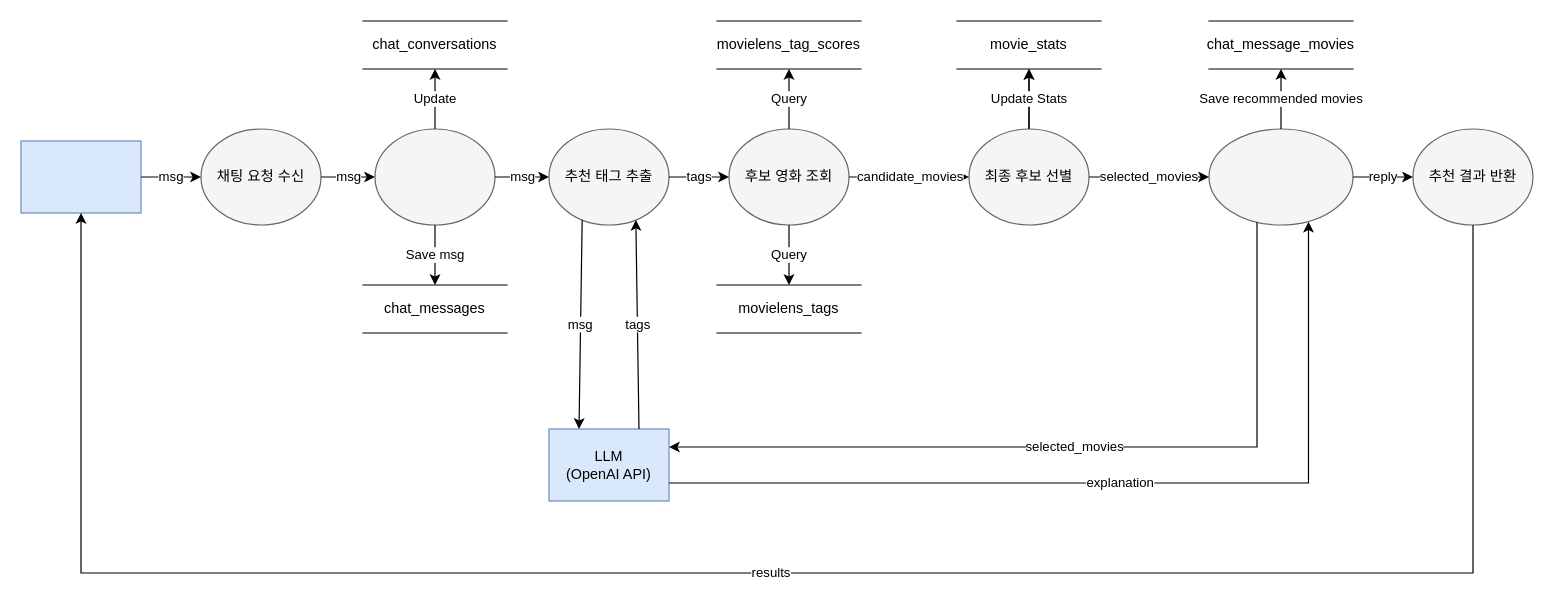
The diagram is 1554 pixels wide and 604 high, and some of its shapes have lost their labels. The centre of each missing label's shape, as x and y in pixels:
"대화 저장" goes at pixel 434 176.
"사용자" goes at pixel 80 176.
"추천 이유를 포함한 답변 생 성" goes at pixel 1280 176.
